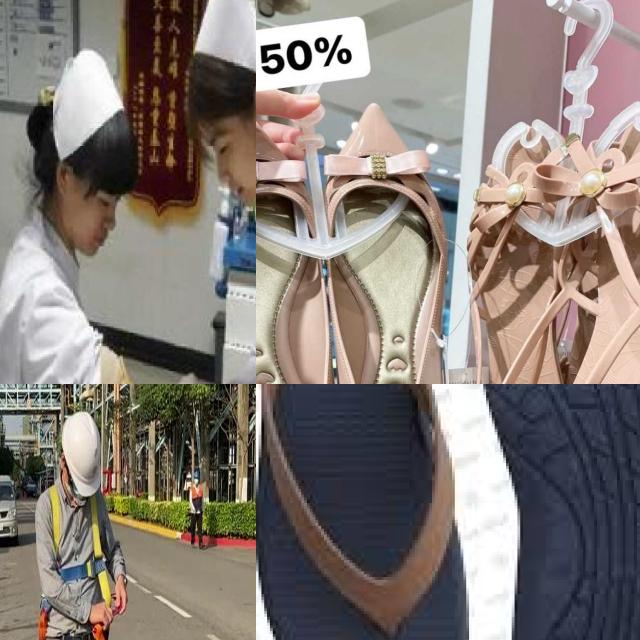Harness: (49, 485, 111, 604), (38, 600, 50, 640)
Sandals: (256, 384, 640, 640), (256, 88, 455, 384), (454, 86, 640, 384)
face_nomask: (46, 164, 138, 266), (192, 108, 256, 202)
hand_glove: (165, 366, 224, 384)
head_nohelmet: (46, 70, 143, 191), (179, 32, 256, 126)
person: (0, 48, 156, 384), (161, 0, 256, 384)
